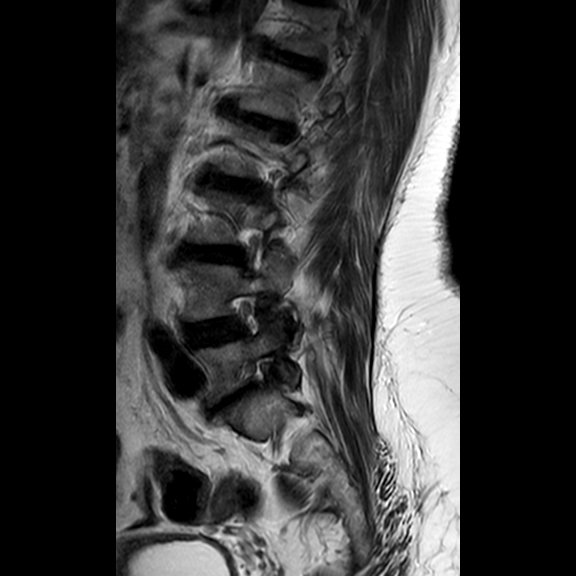LFS0: (218, 284, 273, 344)
LFS1: (227, 214, 280, 285)
